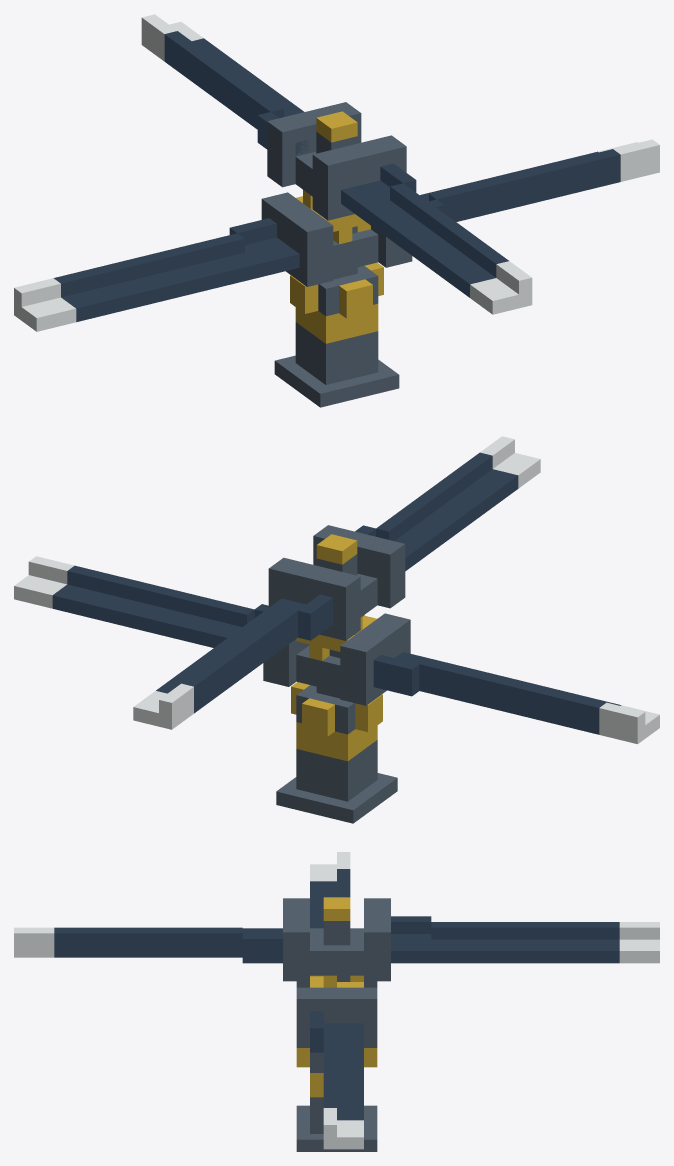
Rendered from Coaxial Counter-Rotating Rotors (Ingenuity).glb.
3 renders of one model, top to bottom at view 1: azimuth 30°, elevation 25°; view 2: azimuth 150°, elevation 25°; view 3: azimuth 270°, elevation 25°, orthographic. The views are drawn at different scales.
Parts seen in each view (by area): view 1: Palas_Carbono, Eje_Soportes_Titanio, Puntas_Blancas, Motor_Cableado_Dorado; view 2: Palas_Carbono, Eje_Soportes_Titanio, Puntas_Blancas, Motor_Cableado_Dorado; view 3: Palas_Carbono, Eje_Soportes_Titanio, Puntas_Blancas, Motor_Cableado_Dorado.
Part boxes in pixels (left/top/right/bottom): Palas_Carbono: left=53, top=31, right=620, bottom=322; Eje_Soportes_Titanio: left=261, top=102, right=412, bottom=407; Puntas_Blancas: left=14, top=14, right=659, bottom=331; Motor_Cableado_Dorado: left=290, top=111, right=383, bottom=343; Palas_Carbono: left=52, top=452, right=620, bottom=734; Eje_Soportes_Titanio: left=263, top=525, right=410, bottom=823; Puntas_Blancas: left=14, top=436, right=659, bottom=744; Motor_Cableado_Dorado: left=291, top=534, right=382, bottom=761; Palas_Carbono: left=54, top=869, right=619, bottom=1120; Eje_Soportes_Titanio: left=283, top=898, right=390, bottom=1151; Puntas_Blancas: left=14, top=852, right=659, bottom=1149; Motor_Cableado_Dorado: left=296, top=897, right=377, bottom=1097.
Size of the model in its own units: 2.4 by 0.95 by 2.4.
